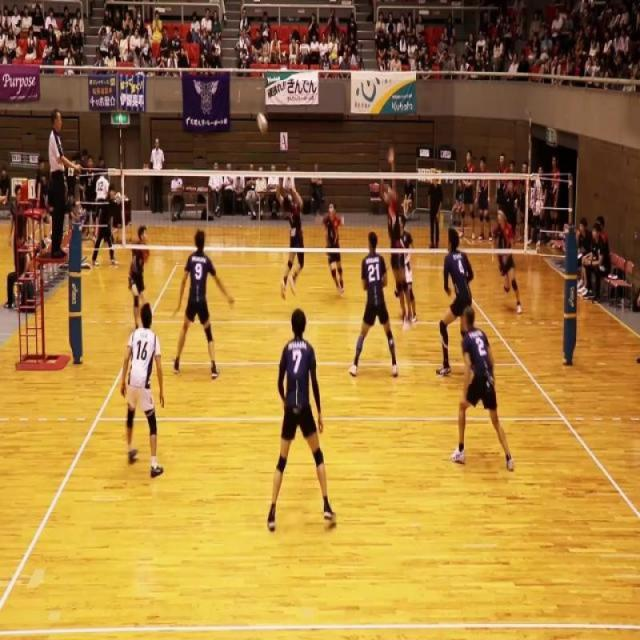volleyball: (256, 110, 268, 135)
